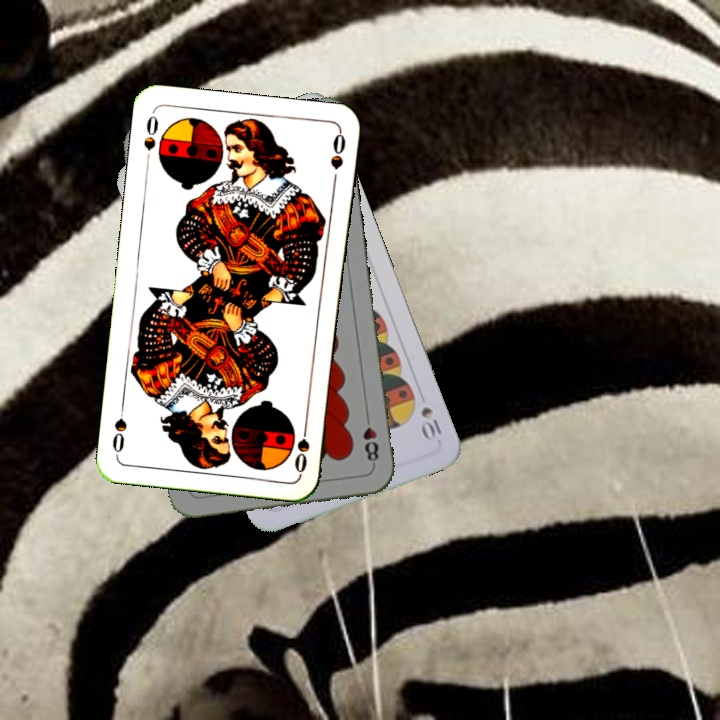H8: (359, 409, 381, 468)
S10: (417, 402, 444, 445)
SO: (290, 417, 312, 476), (139, 109, 161, 168)
